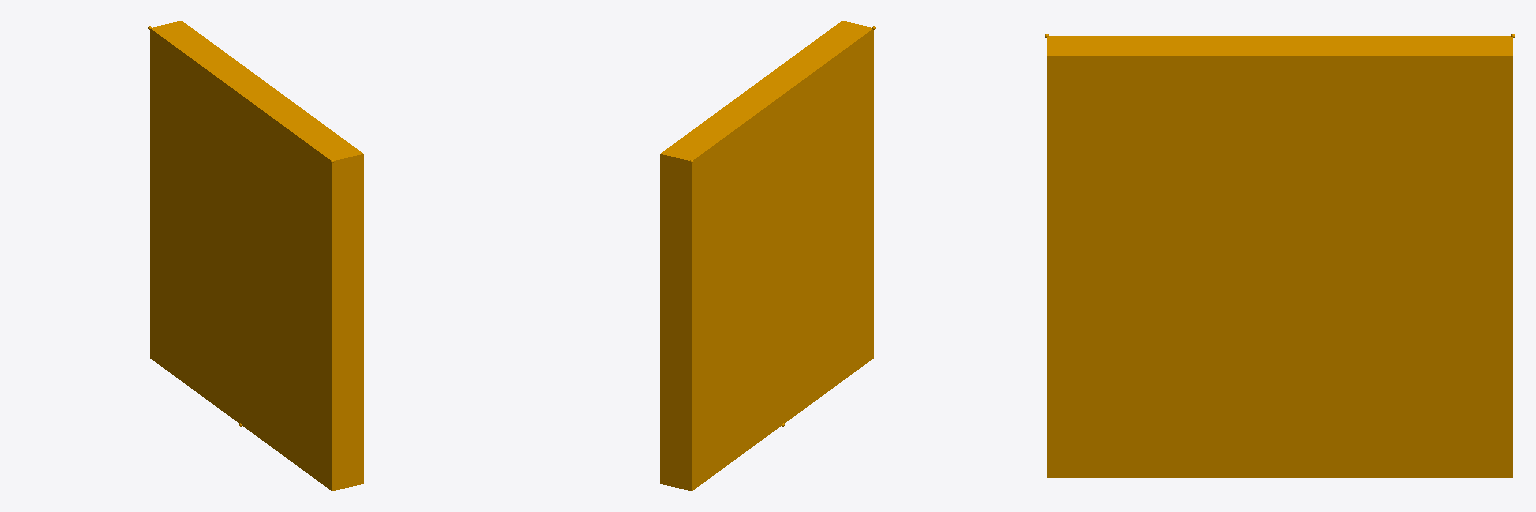
URDF robot description (panda):
<?xml version="1.0" encoding="utf-8"?>

<robot xmlns:drake="http://drake.mit.edu" name="panda">
  <material name="black">
    <color rgba="0.3 0.3 0.3 1"/>
  </material>

  <link name="panda_link0">
    <inertial>
      <mass value="2.92"/>
      <origin xyz="-0.025566 -2.88e-05 0.057332" rpy="0 0 0"/>
      <inertia ixx="0.00782229414331" ixy="-1.56191622996e-05"
               ixz="-0.00126005738123" iyy="0.0109027971813"
               iyz="1.08233858202e-05" izz="0.0102355503949"/>
    </inertial>
    <visual>
      <origin rpy="1.57079632679 0 0"/>
      <geometry>
        <mesh
            filename="package://drake_models/franka_description/meshes/visual/link0.obj"/>
      </geometry>
    </visual>
  </link>
  <link name="panda_link1">
    <inertial>
      <mass value="2.74"/>
      <origin xyz="0 -0.0324958 -0.0675818" rpy="0 0 0"/>
      <inertia ixx="0.0180416958283" ixy="0.0" ixz="0.0" iyy="0.0159136071891"
               iyz="0.0046758424612"
               izz="0.00620690827127"/>
    </inertial>
    <visual>
      <origin rpy="1.57079632679 0 0"/>
      <geometry>
        <mesh
            filename="package://drake_models/franka_description/meshes/visual/link1.obj"/>
      </geometry>
    </visual>
  </link>
  <joint name="panda_joint1" type="revolute">
    <origin rpy="0 0 0" xyz="0 0 0.333"/>
    <parent link="panda_link0"/>
    <child link="panda_link1"/>
    <axis xyz="0 0 1"/>
    <limit effort="87" lower="-2.8973" upper="2.8973" velocity="2.1750"/>
  </joint>
  <link name="panda_link2">
    <inertial>
      <mass value="2.74"/>
      <origin xyz="0 -0.06861 0.0322285" rpy="0 0 0"/>
      <inertia ixx="0.0182856182281" ixy="0.0" ixz="0.0" iyy="0.00621358421175"
               iyz="-0.00472844221905"
               izz="0.0161514346309"/>
    </inertial>
    <visual>
      <origin rpy="1.57079632679 0 0"/>
      <geometry>
        <mesh
            filename="package://drake_models/franka_description/meshes/visual/link2.obj"/>
      </geometry>
    </visual>
  </link>
  <joint name="panda_joint2" type="revolute">
    <origin rpy="-1.57079632679 0 0" xyz="0 0 0"/>
    <parent link="panda_link1"/>
    <child link="panda_link2"/>
    <axis xyz="0 0 1"/>
    <limit effort="87" lower="-1.7628" upper="1.7628" velocity="2.1750"/>
  </joint>
  <link name="panda_link3">
    <inertial>
      <mass value="2.38"/>
      <origin xyz="0.0469893 0.0316374 -0.031704" rpy="0 0 0"/>
      <inertia ixx="0.00771376630908" ixy="-0.00248490625138"
               ixz="-0.00332147581033" iyy="0.00989108008727"
               iyz="-0.00217796151484" izz="0.00811723558464"/>
    </inertial>
    <visual>
      <origin rpy="1.57079632679 0 0"/>
      <geometry>
        <mesh
            filename="package://drake_models/franka_description/meshes/visual/link3.obj"/>
      </geometry>
    </visual>
  </link>
  <joint name="panda_joint3" type="revolute">
    <origin rpy="1.57079632679 0 0" xyz="0 -0.316 0"/>
    <parent link="panda_link2"/>
    <child link="panda_link3"/>
    <axis xyz="0 0 1"/>
    <limit effort="87" lower="-2.8973" upper="2.8973" velocity="2.1750"/>
  </joint>
  <link name="panda_link4">
    <inertial>
      <mass value="2.38"/>
      <origin xyz="-0.0360446 0.0336853 0.031882" rpy="0 0 0"/>
      <inertia ixx="0.00799663881132" ixy="0.00347095570217"
               ixz="-0.00241222942995" iyy="0.00825390705278"
               iyz="0.00235774044121" izz="0.0102515004345"/>
    </inertial>
    <visual>
      <origin rpy="1.57079632679 0 0"/>
      <geometry>
        <mesh
            filename="package://drake_models/franka_description/meshes/visual/link4.obj"/>
      </geometry>
    </visual>
  </link>
  <joint name="panda_joint4" type="revolute">
    <origin rpy="1.57079632679 0 0" xyz="0.0825 0 0"/>
    <parent link="panda_link3"/>
    <child link="panda_link4"/>
    <axis xyz="0 0 1"/>
    <limit effort="87" lower="-3.0718" upper="-0.0698" velocity="2.1750"/>
  </joint>
  <link name="panda_link5">
    <inertial>
      <mass value="2.74"/>
      <origin xyz="0 0.0610427 -0.104176" rpy="0 0 0"/>
      <inertia ixx="0.030371374513" ixy="6.50283587108e-07"
               ixz="-1.05129179916e-05" iyy="0.0288752887402"
               iyz="-0.00775653445787" izz="0.00444134056164"/>
    </inertial>
    <visual>
      <origin rpy="1.57079632679 0 0"/>
      <geometry>
        <mesh
            filename="package://drake_models/franka_description/meshes/visual/link5.obj"/>
      </geometry>
    </visual>
  </link>
  <joint name="panda_joint5" type="revolute">
    <origin rpy="-1.57079632679 0 0" xyz="-0.0825 0.384 0"/>
    <parent link="panda_link4"/>
    <child link="panda_link5"/>
    <axis xyz="0 0 1"/>
    <limit effort="12" lower="-2.8973" upper="2.8973" velocity="2.610"/>
  </joint>
  <link name="panda_link6">
    <inertial>
      <mass value="1.55"/>
      <origin xyz="0.0510509 0.009108 0.0106343" rpy="0 0 0"/>
      <inertia ixx="0.00303336450376" ixy="-0.000437276865508"
               ixz="0.000629257294877" iyy="0.00404479911567"
               iyz="0.000130472021025" izz="0.00558234286039"/>
    </inertial>
    <visual>
      <origin rpy="1.57079632679 0 0"/>
      <geometry>
        <mesh
            filename="package://drake_models/franka_description/meshes/visual/link6.obj"/>
      </geometry>
    </visual>
  </link>
  <joint name="panda_joint6" type="revolute">
    <origin rpy="1.57079632679 0 0" xyz="0 0 0"/>
    <parent link="panda_link5"/>
    <child link="panda_link6"/>
    <axis xyz="0 0 1"/>
    <limit effort="12" lower="-0.0175" upper="3.7525" velocity="2.610"/>
  </joint>
  <link name="panda_link7">,
    <inertial>
      <mass value="0.54"/>
      <origin xyz="0.0109695 0.0107965 0.0650411" rpy="0 0 0"/>
      <inertia ixx="0.000888868887021" ixy="-0.00012239074652"
               ixz="3.98699829666e-05" iyy="0.000888001373233"
               iyz="-9.33825115206e-05" izz="0.0007176834609"/>
    </inertial>
    <visual>
      <origin rpy="1.57079632679 0 0"/>
      <geometry>
        <mesh
            filename="package://drake_models/franka_description/meshes/visual/link7.obj"/>
      </geometry>
    </visual>
  </link>
  <joint name="panda_joint7" type="revolute">
    <origin rpy="1.57079632679 0 0" xyz="0.088 0 0"/>
    <parent link="panda_link6"/>
    <child link="panda_link7"/>
    <axis xyz="0 0 1"/>
    <limit effort="12" lower="-2.8973" upper="2.8973" velocity="2.610"/>
  </joint>
  <link name="paddle">
    <inertial>
      <origin rpy="0 0 0" xyz="0 0 0.01"/>
      <mass value="0.5"/>
      <inertia
          ixx="0.01043"
          ixy="0"
          ixz="0"
          iyy="0.01043"
          iyz="0"
          izz="0.020833"/>
    </inertial>
    <collision name="collision">
      <origin rpy="0 0 0" xyz="0 0 0.01"/>
      <geometry>
        <box size="0.2 0.2 0.02"/>
      </geometry>
      <drake:proximity_properties>
        <drake:rigid_hydroelastic/>
        <drake:mesh_resolution_hint value="1"/>
        <drake:mu_dynamic value="1.0"/>
        <drake:mu_static value="1.0"/>
      </drake:proximity_properties>
    </collision>
    <visual>
      <origin rpy="0 0 0" xyz="0 0 0.01"/>
      <geometry>
        <box size="0.2 0.2 0.02"/>
      </geometry>
    </visual>
    <visual>
      <origin rpy="0 0 0" xyz="0.1 0.0 0.02"/>
      <geometry>
        <sphere radius="0.001"/>
      </geometry>
    </visual>
    <visual>
      <origin rpy="0 0 0" xyz="-0.1 0.1 0.02"/>
      <geometry>
        <sphere radius="0.001"/>
      </geometry>
    </visual>
    <visual>
      <origin rpy="0 0 0" xyz="-0.1 -0.1 0.02"/>
      <geometry>
        <sphere radius="0.001"/>
      </geometry>
    </visual>
  </link>
  <joint name="fixed_paddle" type="fixed">
    <origin rpy="0 0 0" xyz="0 0 0.107"/>
    <parent link="panda_link7"/>
    <child link="paddle"/>
  </joint>
  <transmission name="panda_tran1">
    <type>transmission_interface/SimpleTransmission</type>
    <joint name="panda_joint1">
      <hardwareInterface>PositionJointInterface</hardwareInterface>
    </joint>
    <actuator name="panda_motor1">
      <hardwareInterface>PositionJointInterface</hardwareInterface>
      <mechanicalReduction>1</mechanicalReduction>
    </actuator>
  </transmission>
  <transmission name="panda_tran2">
    <type>transmission_interface/SimpleTransmission</type>
    <joint name="panda_joint2">
      <hardwareInterface>PositionJointInterface</hardwareInterface>
    </joint>
    <actuator name="panda_motor2">
      <hardwareInterface>PositionJointInterface</hardwareInterface>
      <mechanicalReduction>1</mechanicalReduction>
    </actuator>
  </transmission>
  <transmission name="panda_tran3">
    <type>transmission_interface/SimpleTransmission</type>
    <joint name="panda_joint3">
      <hardwareInterface>PositionJointInterface</hardwareInterface>
    </joint>
    <actuator name="panda_motor3">
      <hardwareInterface>PositionJointInterface</hardwareInterface>
      <mechanicalReduction>1</mechanicalReduction>
    </actuator>
  </transmission>
  <transmission name="panda_tran4">
    <type>transmission_interface/SimpleTransmission</type>
    <joint name="panda_joint4">
      <hardwareInterface>PositionJointInterface</hardwareInterface>
    </joint>
    <actuator name="panda_motor4">
      <hardwareInterface>PositionJointInterface</hardwareInterface>
      <mechanicalReduction>1</mechanicalReduction>
    </actuator>
  </transmission>
  <transmission name="panda_tran5">
    <type>transmission_interface/SimpleTransmission</type>
    <joint name="panda_joint5">
      <hardwareInterface>PositionJointInterface</hardwareInterface>
    </joint>
    <actuator name="panda_motor5">
      <hardwareInterface>PositionJointInterface</hardwareInterface>
      <mechanicalReduction>1</mechanicalReduction>
    </actuator>
  </transmission>
  <transmission name="panda_tran6">
    <type>transmission_interface/SimpleTransmission</type>
    <joint name="panda_joint6">
      <hardwareInterface>PositionJointInterface</hardwareInterface>
    </joint>
    <actuator name="panda_motor6">
      <hardwareInterface>PositionJointInterface</hardwareInterface>
      <mechanicalReduction>1</mechanicalReduction>
    </actuator>
  </transmission>
  <transmission name="panda_tran7">
    <type>transmission_interface/SimpleTransmission</type>
    <joint name="panda_joint7">
      <hardwareInterface>PositionJointInterface</hardwareInterface>
    </joint>
    <actuator name="panda_motor7">
      <hardwareInterface>PositionJointInterface</hardwareInterface>
      <mechanicalReduction>1</mechanicalReduction>
    </actuator>
  </transmission>
  <drake:collision_filter_group name="group_link57">
    <drake:member link="panda_link5"/>
    <drake:member link="panda_link7"/>
    <drake:ignored_collision_filter_group name="group_link57"/>
  </drake:collision_filter_group>
  <drake:collision_filter_group name="">
    <drake:member link="panda_link5"/>
    <drake:member link="paddle"/>
    <drake:ignored_collision_filter_group name="group_link5paddle"/>
  </drake:collision_filter_group>
  <drake:collision_filter_group name="">
    <drake:member link="panda_link4"/>
    <drake:member link="paddle"/>
    <drake:ignored_collision_filter_group name="group_link4paddle"/>
  </drake:collision_filter_group>

</robot>

--- Facts derived from the render (not from the file) ---
Views: 3 orthographic renders of the robot side by side, from view 1: azimuth 30°, elevation 25°; view 2: azimuth 150°, elevation 25°; view 3: azimuth 270°, elevation 25°.
Model panda with 9 links and 8 joints (7 revolute, 1 fixed), rooted at panda_link0, posed all joints at 0 but 1 set to mid-range because 0 is outside their limits (panda_joint4 = -1.57).
Links seen in each view (by area): view 1: paddle; view 2: paddle; view 3: paddle.
Boxes of the visible links, left/top/right/bottom form: paddle: left=148, top=21, right=363, bottom=490; paddle: left=660, top=21, right=875, bottom=490; paddle: left=1045, top=34, right=1514, bottom=477.
Size in the robot's own frame: 0.021 by 0.202 by 0.202 metres.
0 mesh visuals loaded from 8 distinct referenced files (none loaded); not drawn: 8 (reference not matched to a file when rendering).